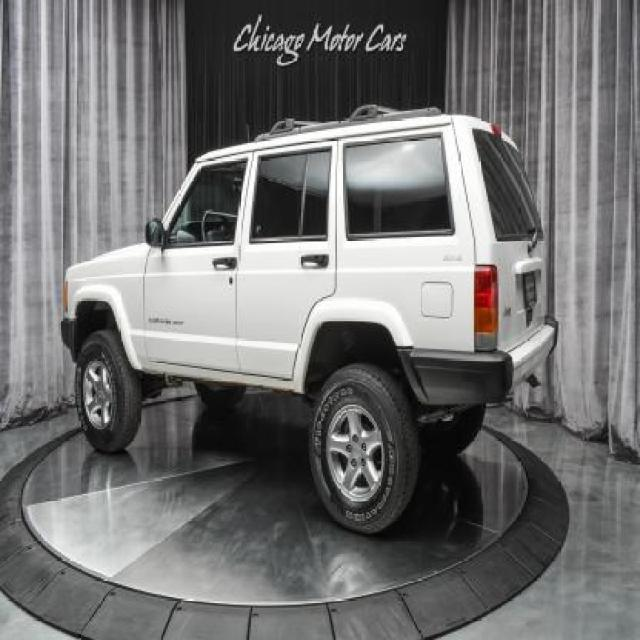Jeep: (57, 102, 558, 536)
